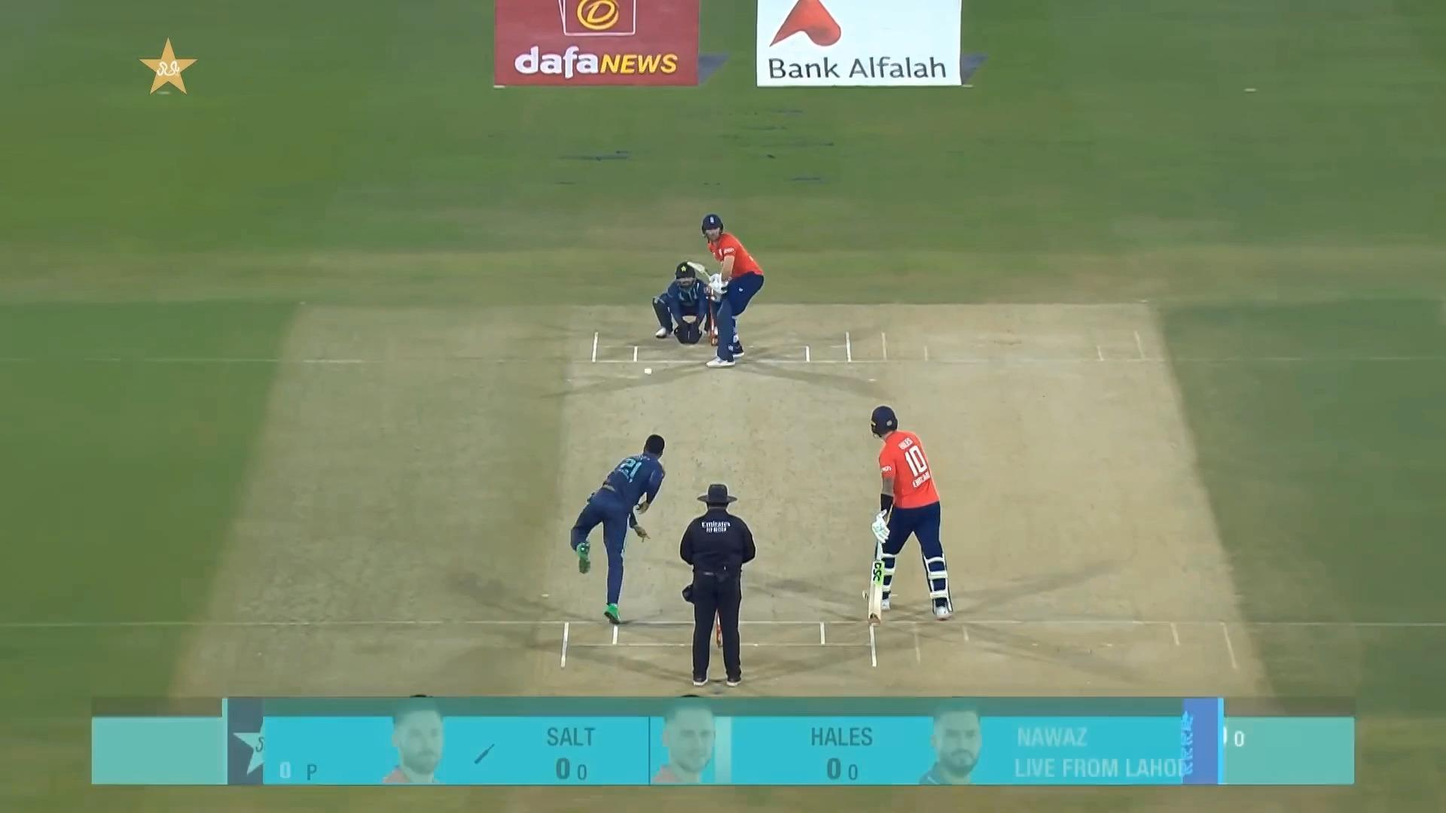BM 1: (686, 213, 765, 367)
BO: (570, 434, 665, 625)
